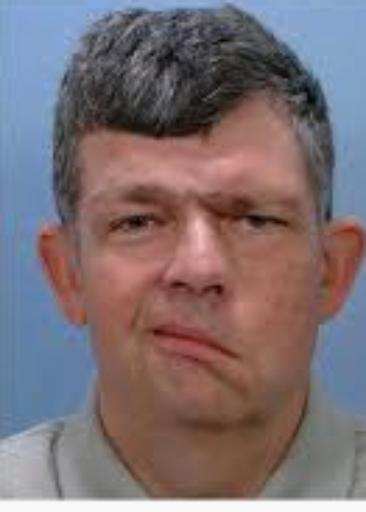left_eye: (223, 215, 291, 243)
left_lip_corner: (229, 347, 247, 368)
right_eye: (110, 214, 170, 241)
right_lip_corner: (139, 322, 164, 345)
